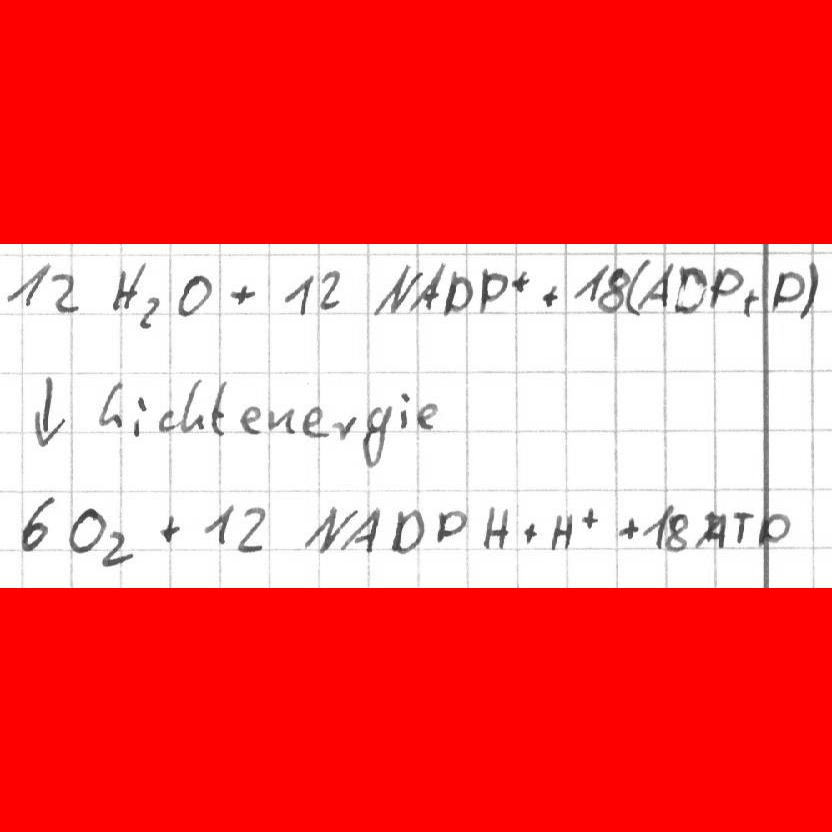Char: (25, 370, 74, 449), (371, 259, 421, 320), (302, 502, 356, 555), (17, 493, 56, 554), (6, 259, 52, 310), (406, 259, 445, 317), (338, 508, 385, 555), (359, 403, 392, 467), (174, 271, 216, 320), (106, 262, 146, 313), (67, 504, 106, 555), (390, 507, 429, 558), (232, 502, 269, 554), (706, 261, 743, 311), (637, 260, 673, 310), (596, 265, 630, 316), (692, 508, 729, 552), (478, 264, 509, 316), (281, 270, 315, 317), (178, 377, 206, 434), (770, 267, 804, 313), (676, 264, 708, 312), (480, 503, 510, 553), (442, 268, 473, 316), (97, 382, 127, 431), (49, 270, 82, 314), (572, 263, 608, 303), (202, 501, 235, 544), (642, 502, 672, 549), (99, 530, 136, 568), (435, 506, 469, 547), (625, 258, 649, 316), (545, 509, 576, 553), (209, 378, 230, 438), (756, 509, 792, 544), (797, 263, 819, 319), (319, 267, 344, 313), (664, 509, 689, 552), (301, 405, 330, 440), (135, 294, 163, 330), (731, 506, 754, 547), (266, 405, 297, 435), (131, 392, 149, 441), (226, 281, 257, 308), (237, 404, 263, 436), (157, 512, 183, 543), (416, 398, 437, 434), (331, 412, 356, 442), (157, 405, 179, 436), (614, 513, 638, 541), (511, 267, 533, 297), (539, 280, 560, 310), (743, 285, 761, 319), (397, 388, 411, 431), (578, 506, 601, 531), (520, 518, 539, 544)
